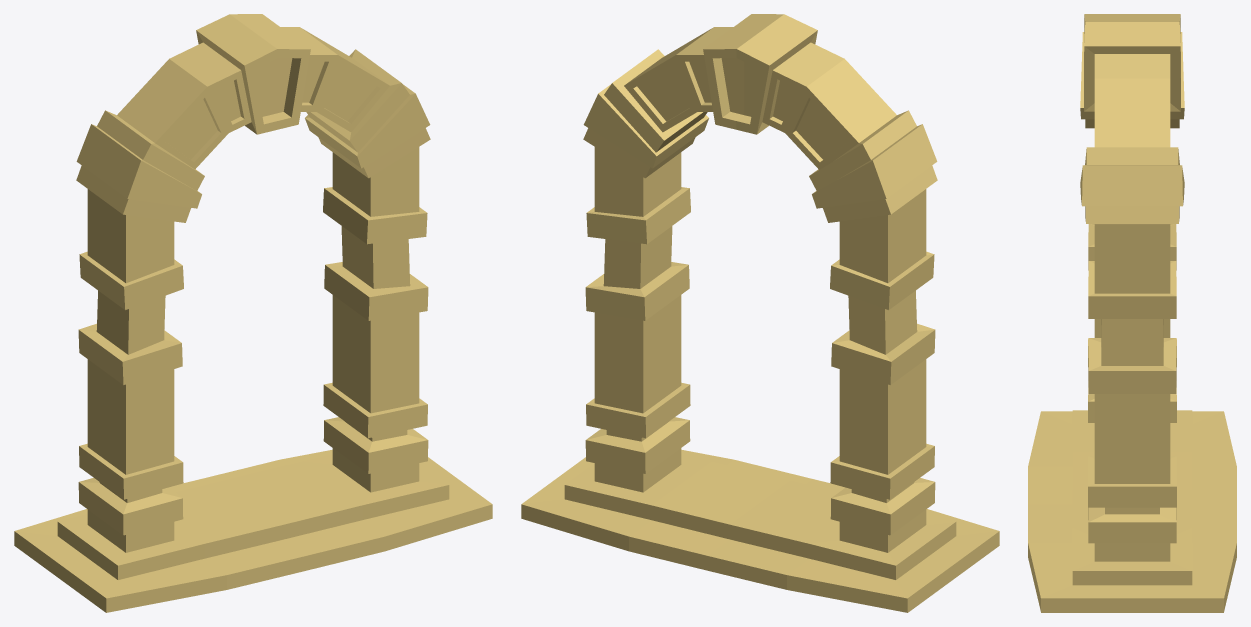
The model's file is portal.fbx.
3 views of the same model, side by side, from view 1: azimuth 30°, elevation 25°; view 2: azimuth 150°, elevation 25°; view 3: azimuth 270°, elevation 25° (orthographic).
Visible parts, largest first — view 1: Circle; view 2: Circle; view 3: Circle.
Part boxes in pixels (x1=…): Circle: x1=14, y1=14, x2=492, y2=612; Circle: x1=521, y1=14, x2=999, y2=612; Circle: x1=1028, y1=14, x2=1236, y2=612.
Bounding box in the file's own units: 384 × 475 × 181.
